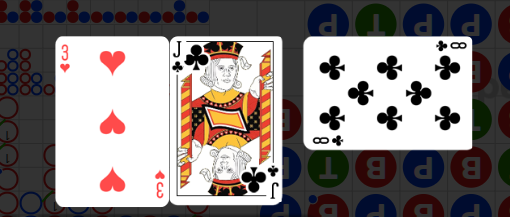3H: (60, 44, 72, 76)
8C: (312, 134, 346, 148), (435, 41, 469, 54)
